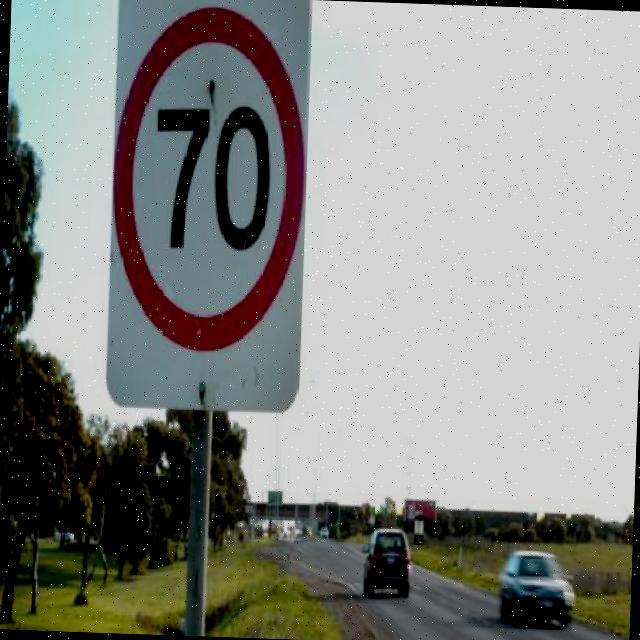Ograniczenie predkosci do 70: (104, 0, 322, 359)
